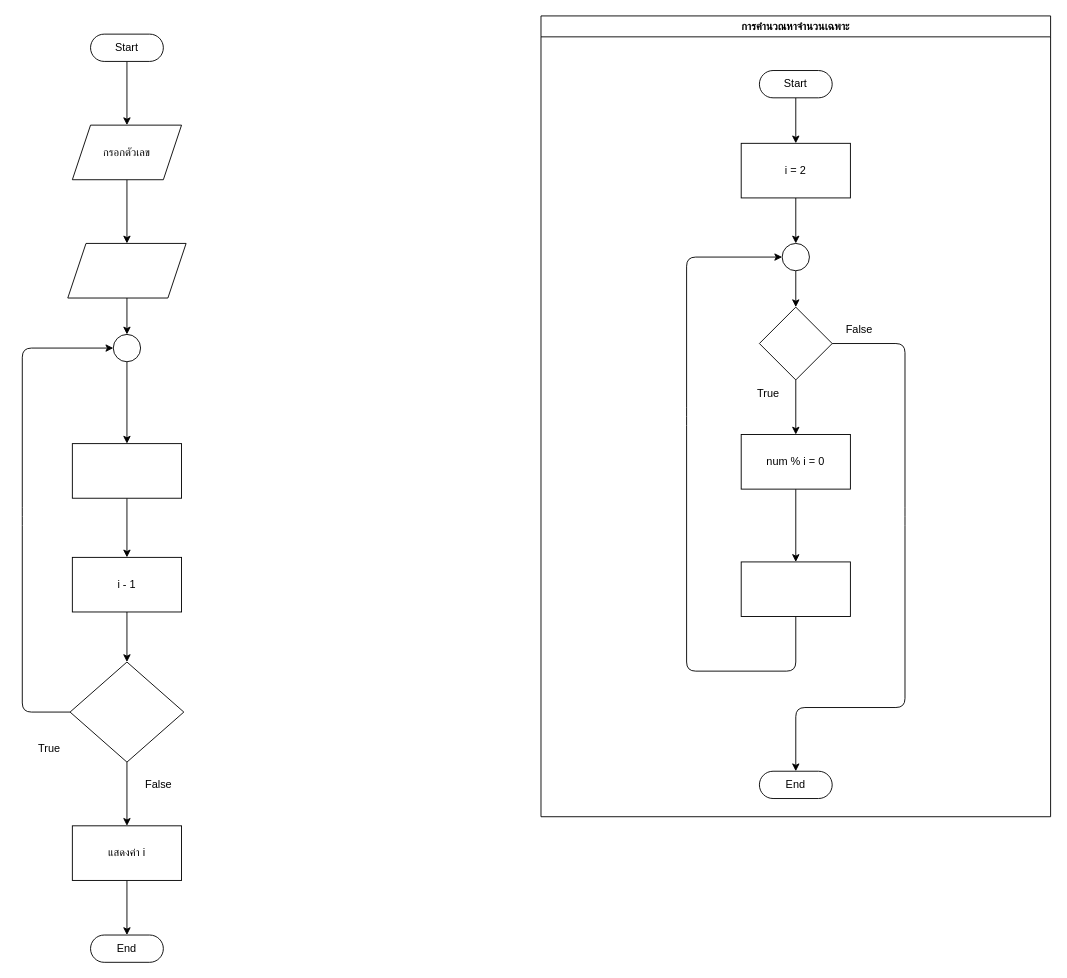
Image size: 1067x978. Some labels were removed from this diagram. The shapes that lost their labels are listed below. From the top down, each one's centre as x and y in pixels, then its label:
the point at 126,270: ขึ้นโชว์เลขที่ กรอกมาถึงเลข 1
the point at 795,343: i < n
the point at 126,470: คำนวณหาค่าเฉพาะ
the point at 795,589: i + 1
the point at 126,711: i >= 2
